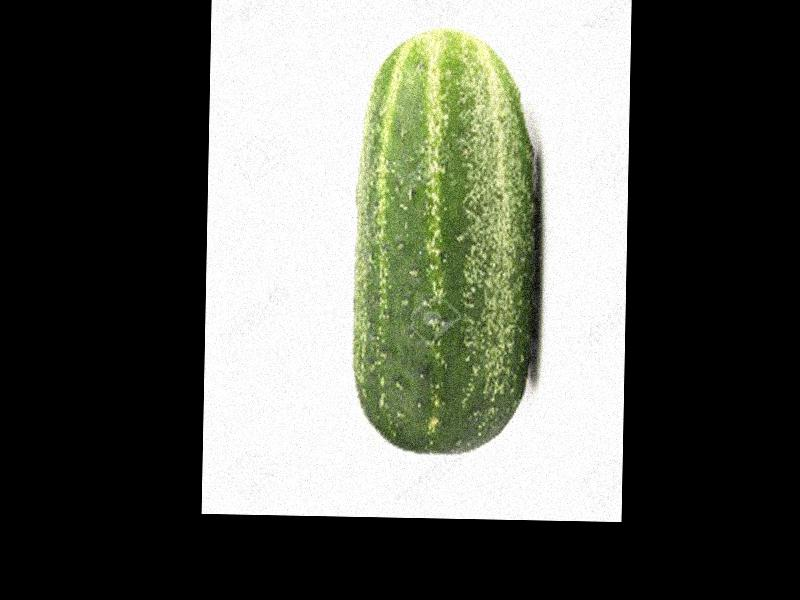Cucumber: (351, 31, 542, 459)
